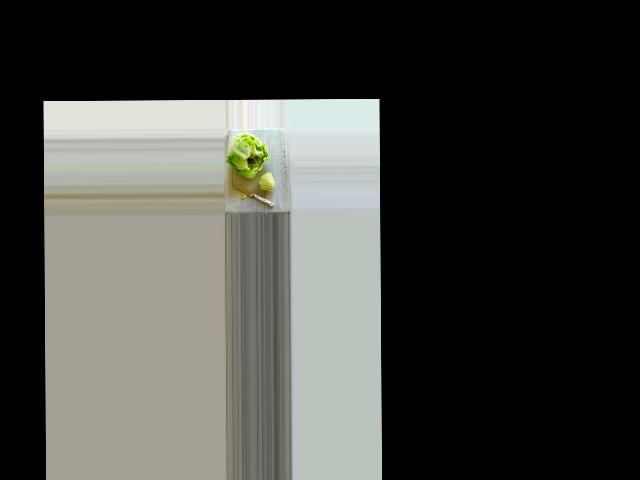lettuce: (228, 130, 268, 174)
